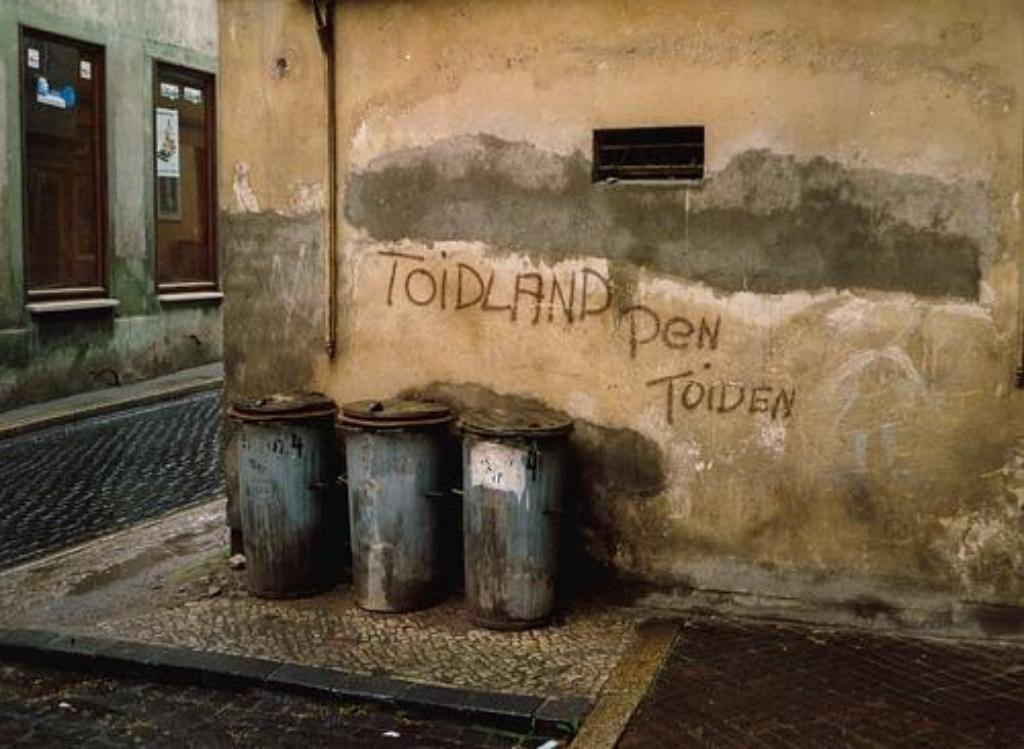dustbin: (337, 390, 470, 616), (458, 403, 583, 624), (221, 378, 348, 593)
